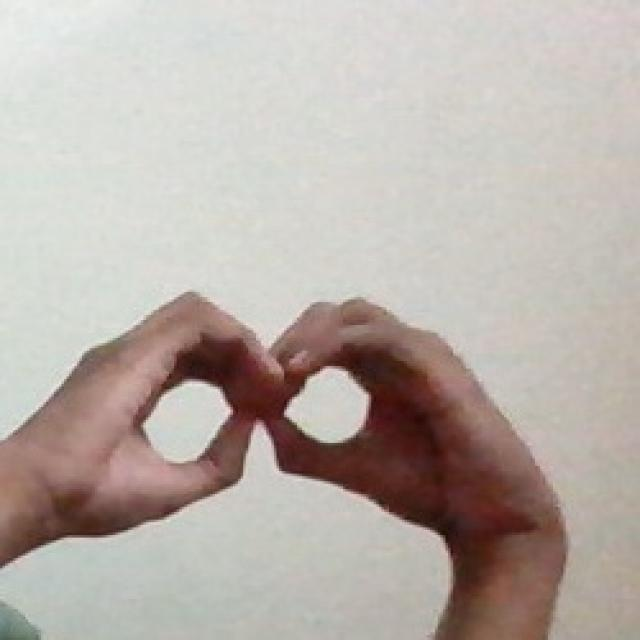Alphabet-B: (35, 283, 537, 553)
